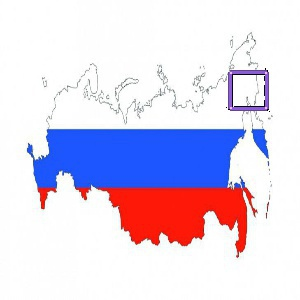square: (227, 68, 270, 111)
